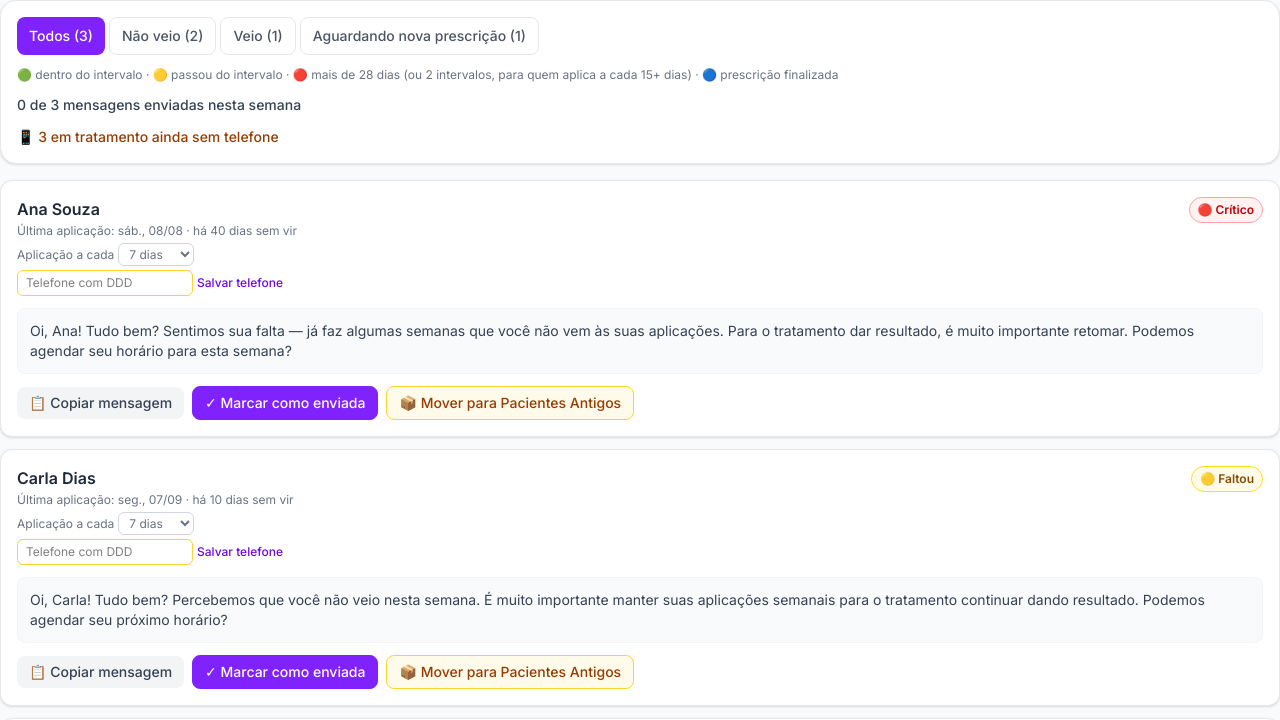
Scenario: EmTratamento › não marca quando o POST falha
Click the button "✓ Marcar como enviada" below "Carla Dias": (285,672) [192, 655, 378, 689]
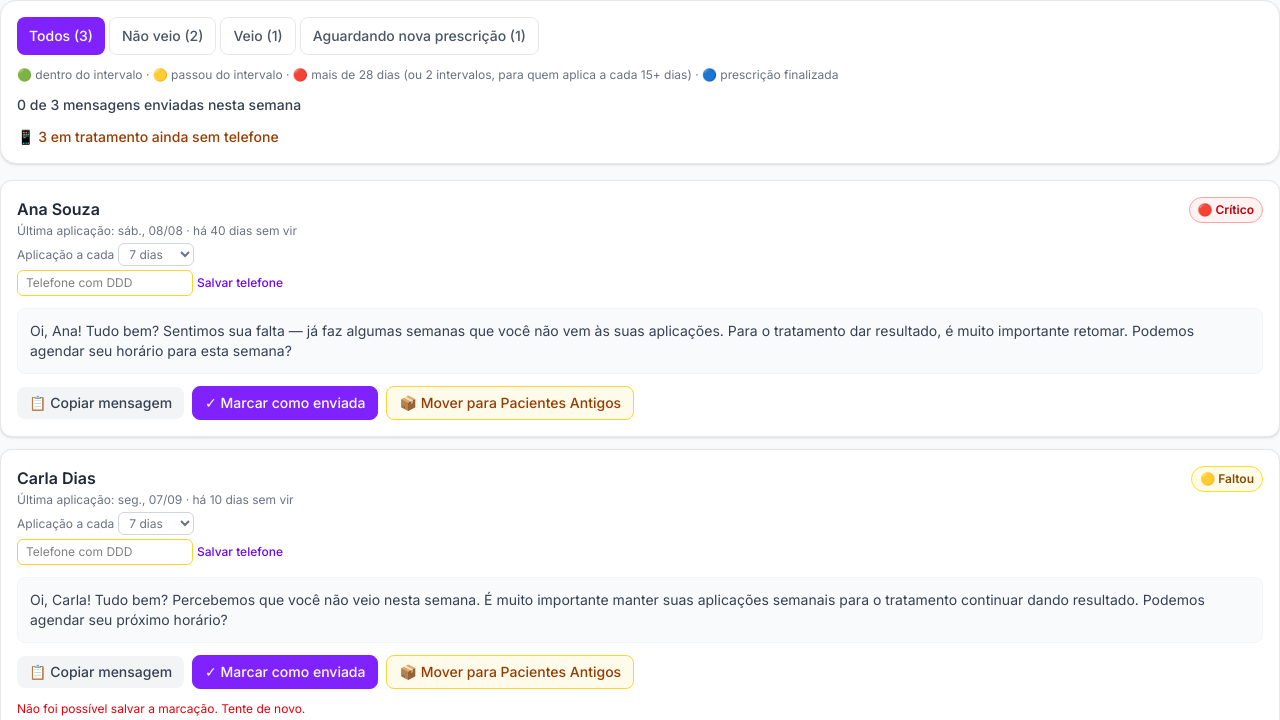
Expected: the text "0 de 3 mensagens enviadas nesta semana" is shown, [17, 96, 301, 113]
Result: the message shows "Não foi possível salvar a marcação" at [17, 701, 305, 716]
